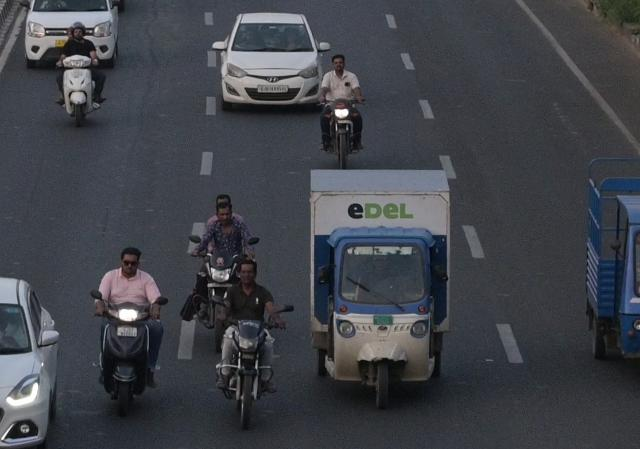With Helmet: (68, 20, 86, 40)
Without Helmet: (118, 245, 144, 275), (234, 256, 260, 286), (214, 192, 234, 220), (331, 54, 347, 73)
